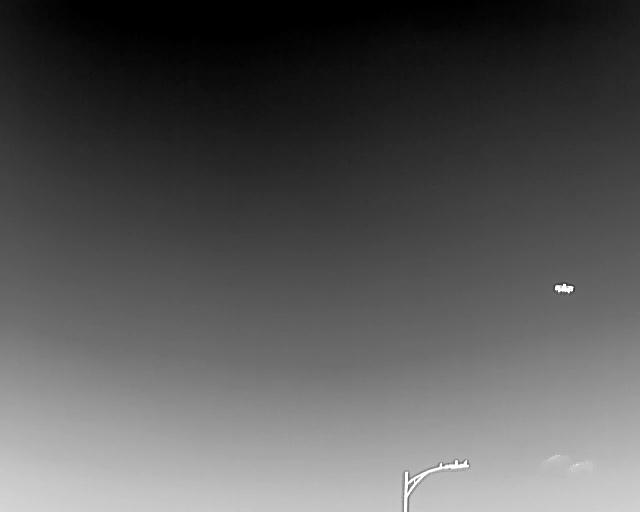fpv-drone: (553, 282, 574, 294)
